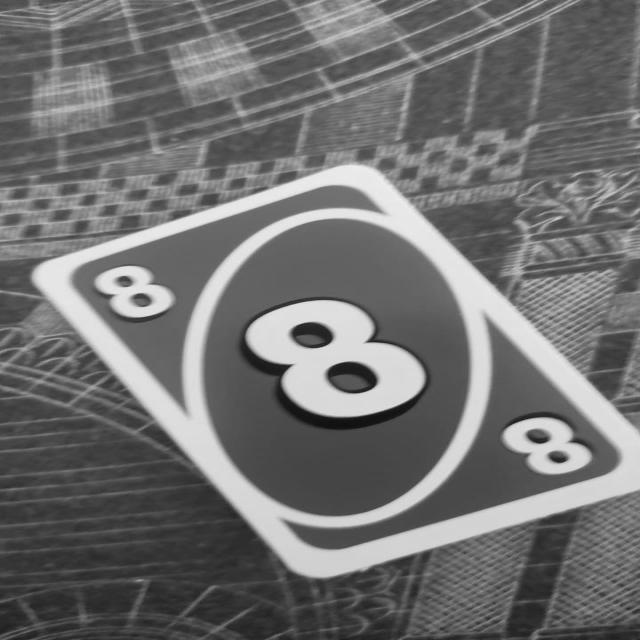card_8: (29, 163, 638, 579)
